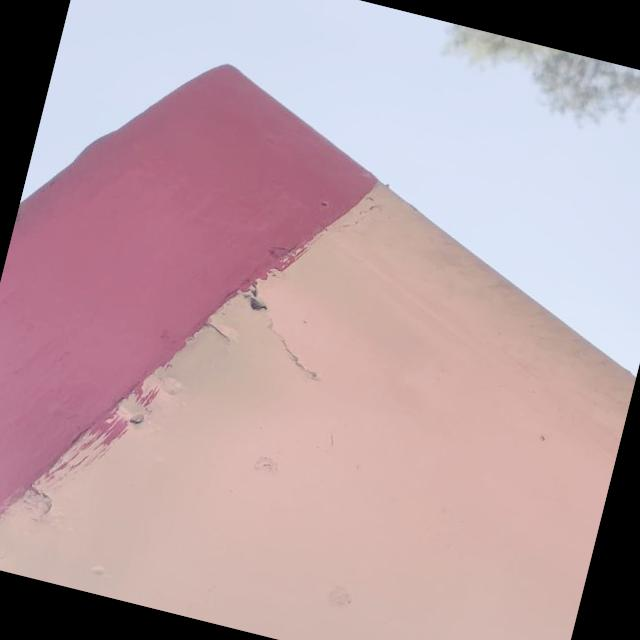crack: (212, 270, 348, 391), (192, 312, 244, 351)
